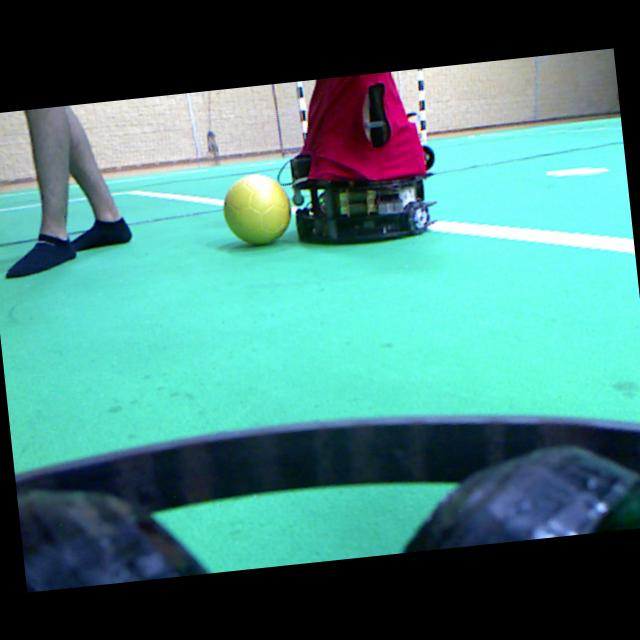ball: (223, 174, 289, 243)
